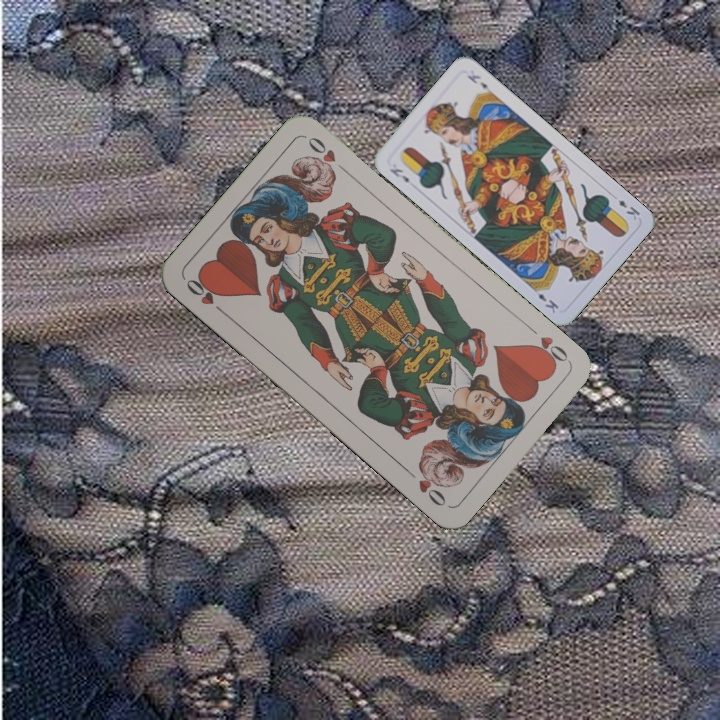EK: (614, 196, 643, 223), (385, 164, 412, 186)
HO: (182, 272, 230, 319), (526, 332, 573, 370)
